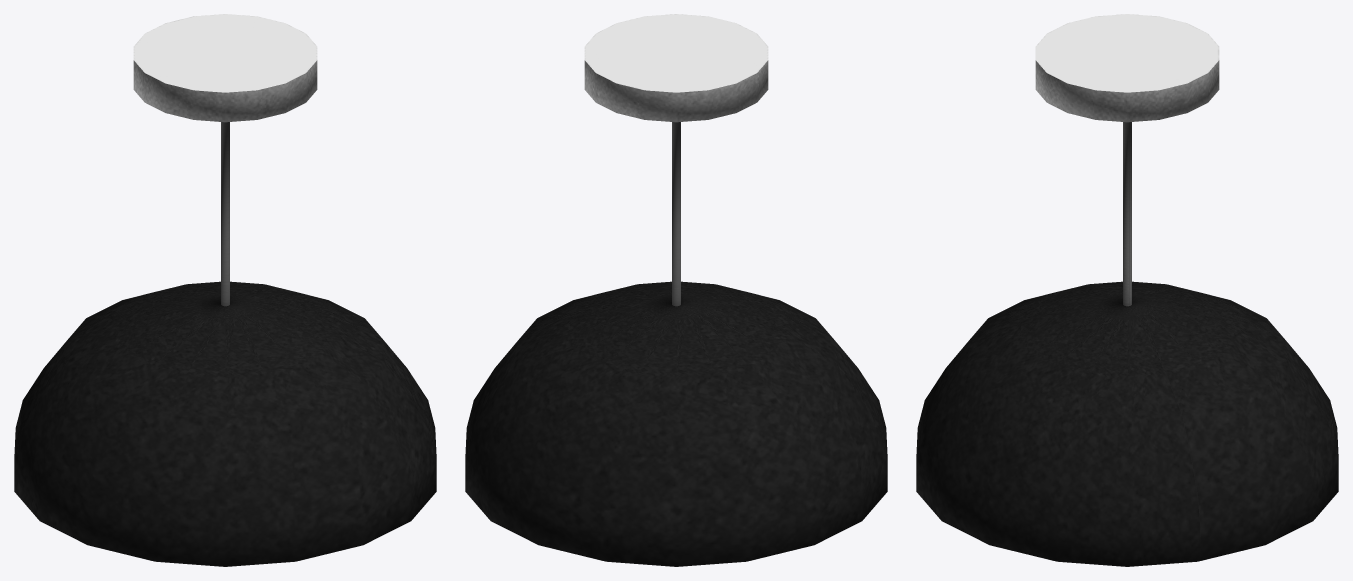
Rendered from lampara.FBX.
The picture shows the model from 3 angles, left to right: view 1: azimuth 30°, elevation 25°; view 2: azimuth 150°, elevation 25°; view 3: azimuth 270°, elevation 25°; orthographic projection.
Parts seen in each view (by area): view 1: Lampara; view 2: Lampara; view 3: Lampara.
Part boxes in pixels (bbox=[...]): Lampara: bbox=[14, 14, 436, 566]; Lampara: bbox=[465, 14, 887, 566]; Lampara: bbox=[916, 14, 1338, 566].
Bounding box in the file's own units: 58.37 × 64.1 × 57.48.
